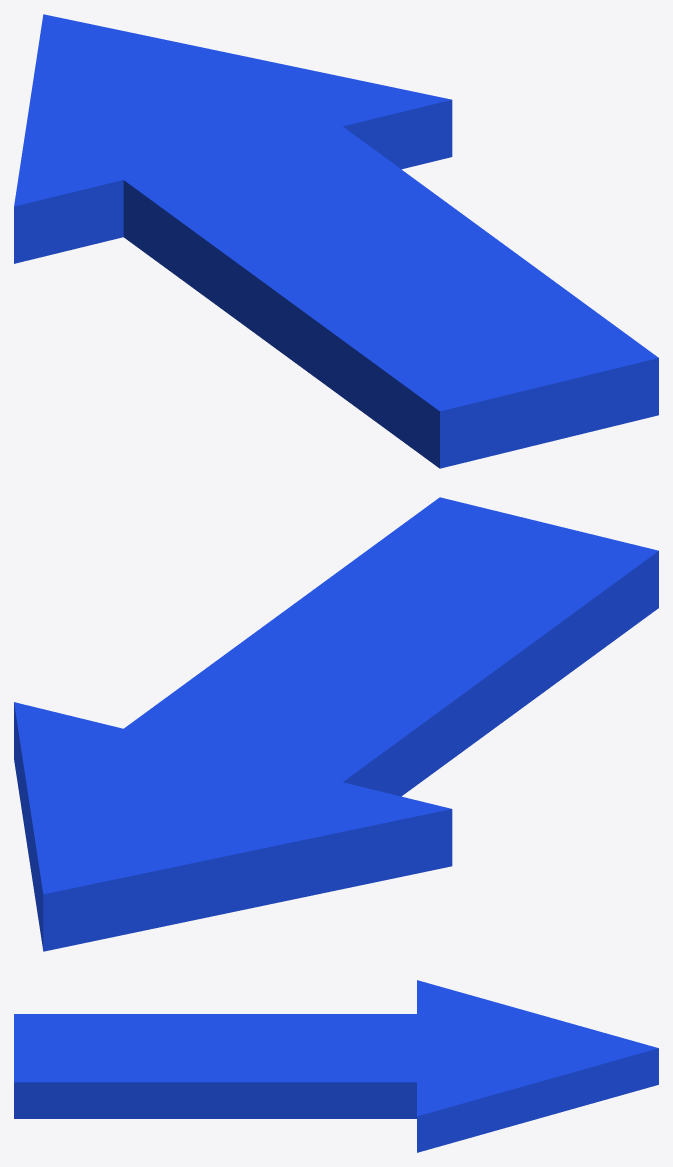
Rendered from BlueArrow.fbx.
The picture shows the model from 3 angles, top to bottom: view 1: azimuth 30°, elevation 25°; view 2: azimuth 150°, elevation 25°; view 3: azimuth 270°, elevation 25°; orthographic projection. The views are drawn at different scales.
Parts seen in each view (by area): view 1: Arrow; view 2: Arrow; view 3: Arrow.
Boxes of the visible parts, box(x1,y1,x2,y2) form: Arrow: box(14, 14, 658, 468); Arrow: box(14, 497, 658, 951); Arrow: box(14, 980, 658, 1152).
Size of the model in its own units: 40 by 5 by 80.
